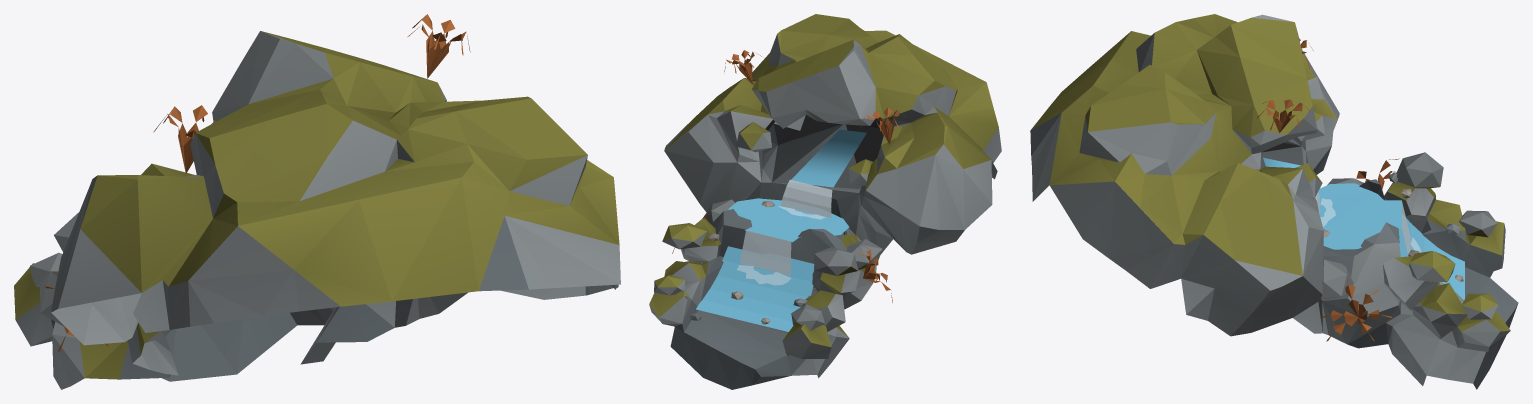
File: spring_cave_low.glb
3 renders of one model, left to right at view 1: azimuth 30°, elevation 25°; view 2: azimuth 150°, elevation 25°; view 3: azimuth 270°, elevation 25°, orthographic. The views are drawn at different scales.
Visible parts, largest first — view 1: rock; view 2: rock, water, water_fall, water_foam; view 3: rock, water.
Boxes of the visible parts, x1=… form: rock: x1=14, y1=14, x2=620, y2=389; rock: x1=649, y1=14, x2=1001, y2=389; water: x1=696, y1=129, x2=866, y2=331; water_fall: x1=740, y1=179, x2=832, y2=275; water_foam: x1=737, y1=206, x2=825, y2=285; rock: x1=1030, y1=14, x2=1518, y2=389; water: x1=1263, y1=157, x2=1464, y2=299.
Bounding box in the file's own units: 9.29 × 7.73 × 10.12.
